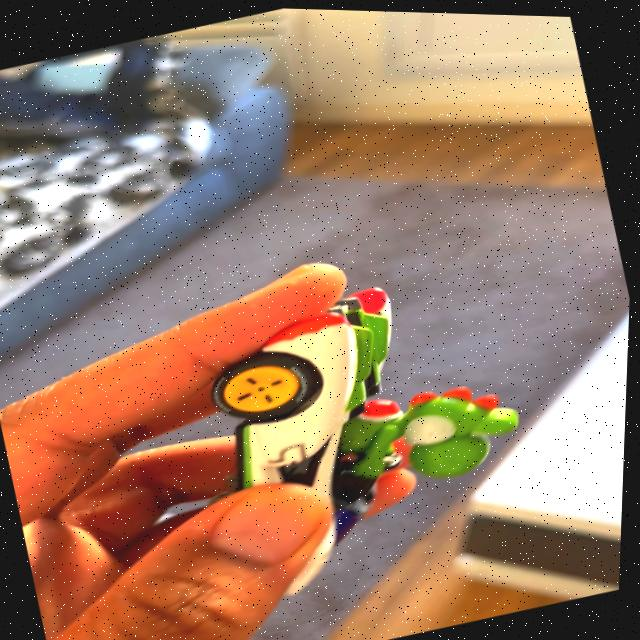yoshi: (177, 230, 575, 574)
